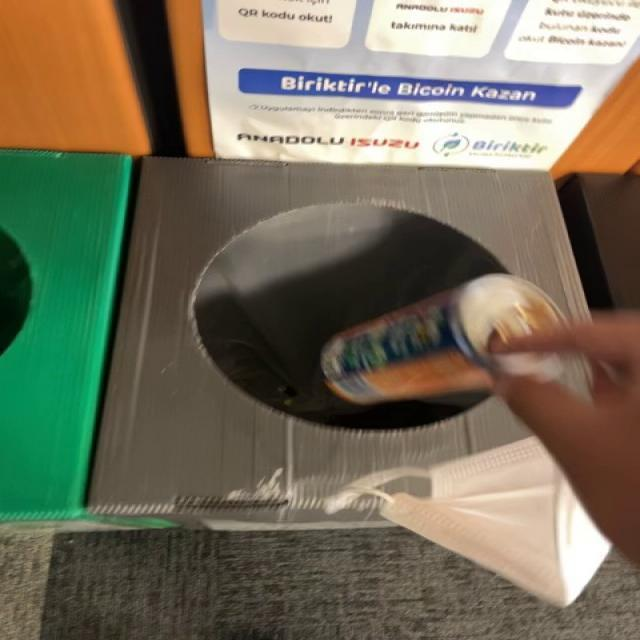Bin: (89, 159, 588, 522)
Metal: (321, 274, 567, 406)
